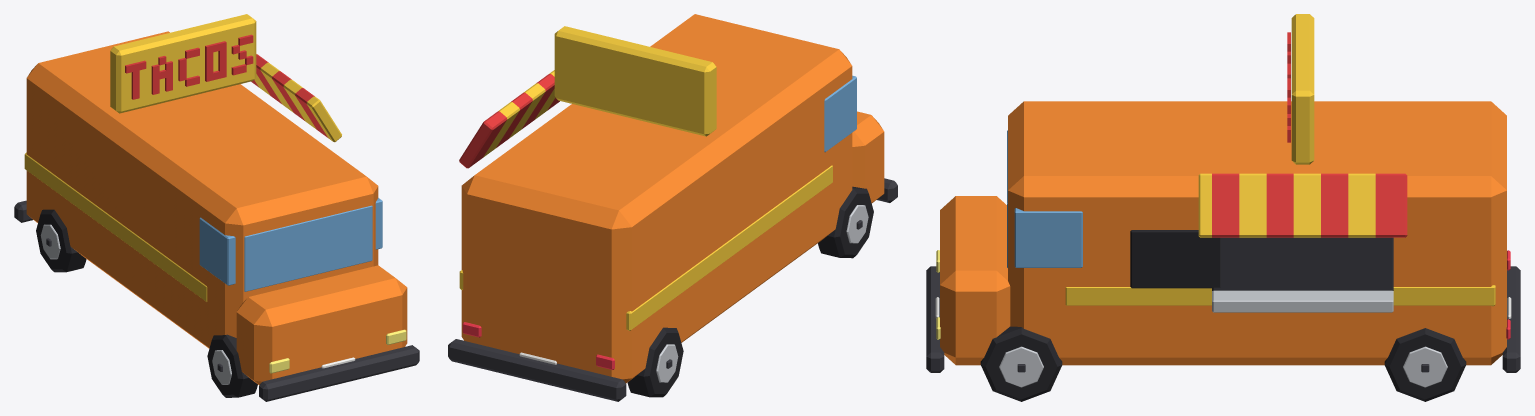
File: FoodTruck.fbx
3 renders of one model, left to right at view 1: azimuth 30°, elevation 25°; view 2: azimuth 150°, elevation 25°; view 3: azimuth 270°, elevation 25°, orthographic. The views are drawn at different scales.
Visible parts, largest first — view 1: FoodTruck, FoodTruck_WheelFR, FoodTruck_WheelBR; view 2: FoodTruck, FoodTruck_WheelFR, FoodTruck_WheelBR; view 3: FoodTruck, FoodTruck_WheelFL, FoodTruck_WheelBL.
Boxes of the visible parts, bbox=[...] form: FoodTruck: bbox=[14, 14, 419, 401]; FoodTruck_WheelFR: bbox=[207, 334, 257, 397]; FoodTruck_WheelBR: bbox=[36, 209, 86, 272]; FoodTruck: bbox=[448, 14, 897, 401]; FoodTruck_WheelFR: bbox=[818, 186, 873, 258]; FoodTruck_WheelBR: bbox=[627, 327, 683, 397]; FoodTruck: bbox=[926, 14, 1520, 372]; FoodTruck_WheelFL: bbox=[980, 326, 1062, 401]; FoodTruck_WheelBL: bbox=[1384, 328, 1466, 401].
Bounding box in the file's own units: 5.97 × 7.43 × 13.1.
Materials: 1 (1 with a texture image).
